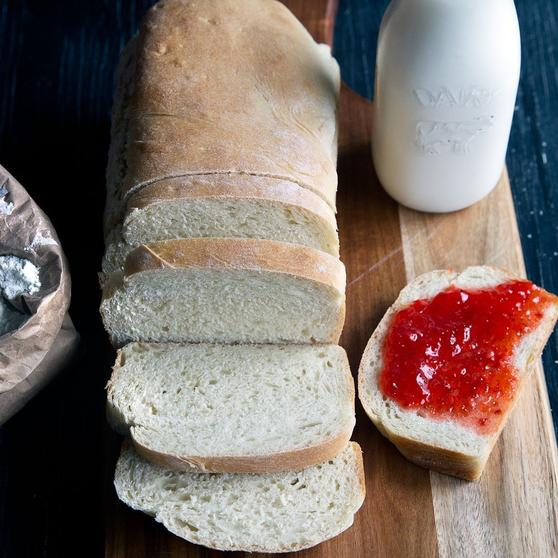white_bread: (103, 3, 342, 256)
